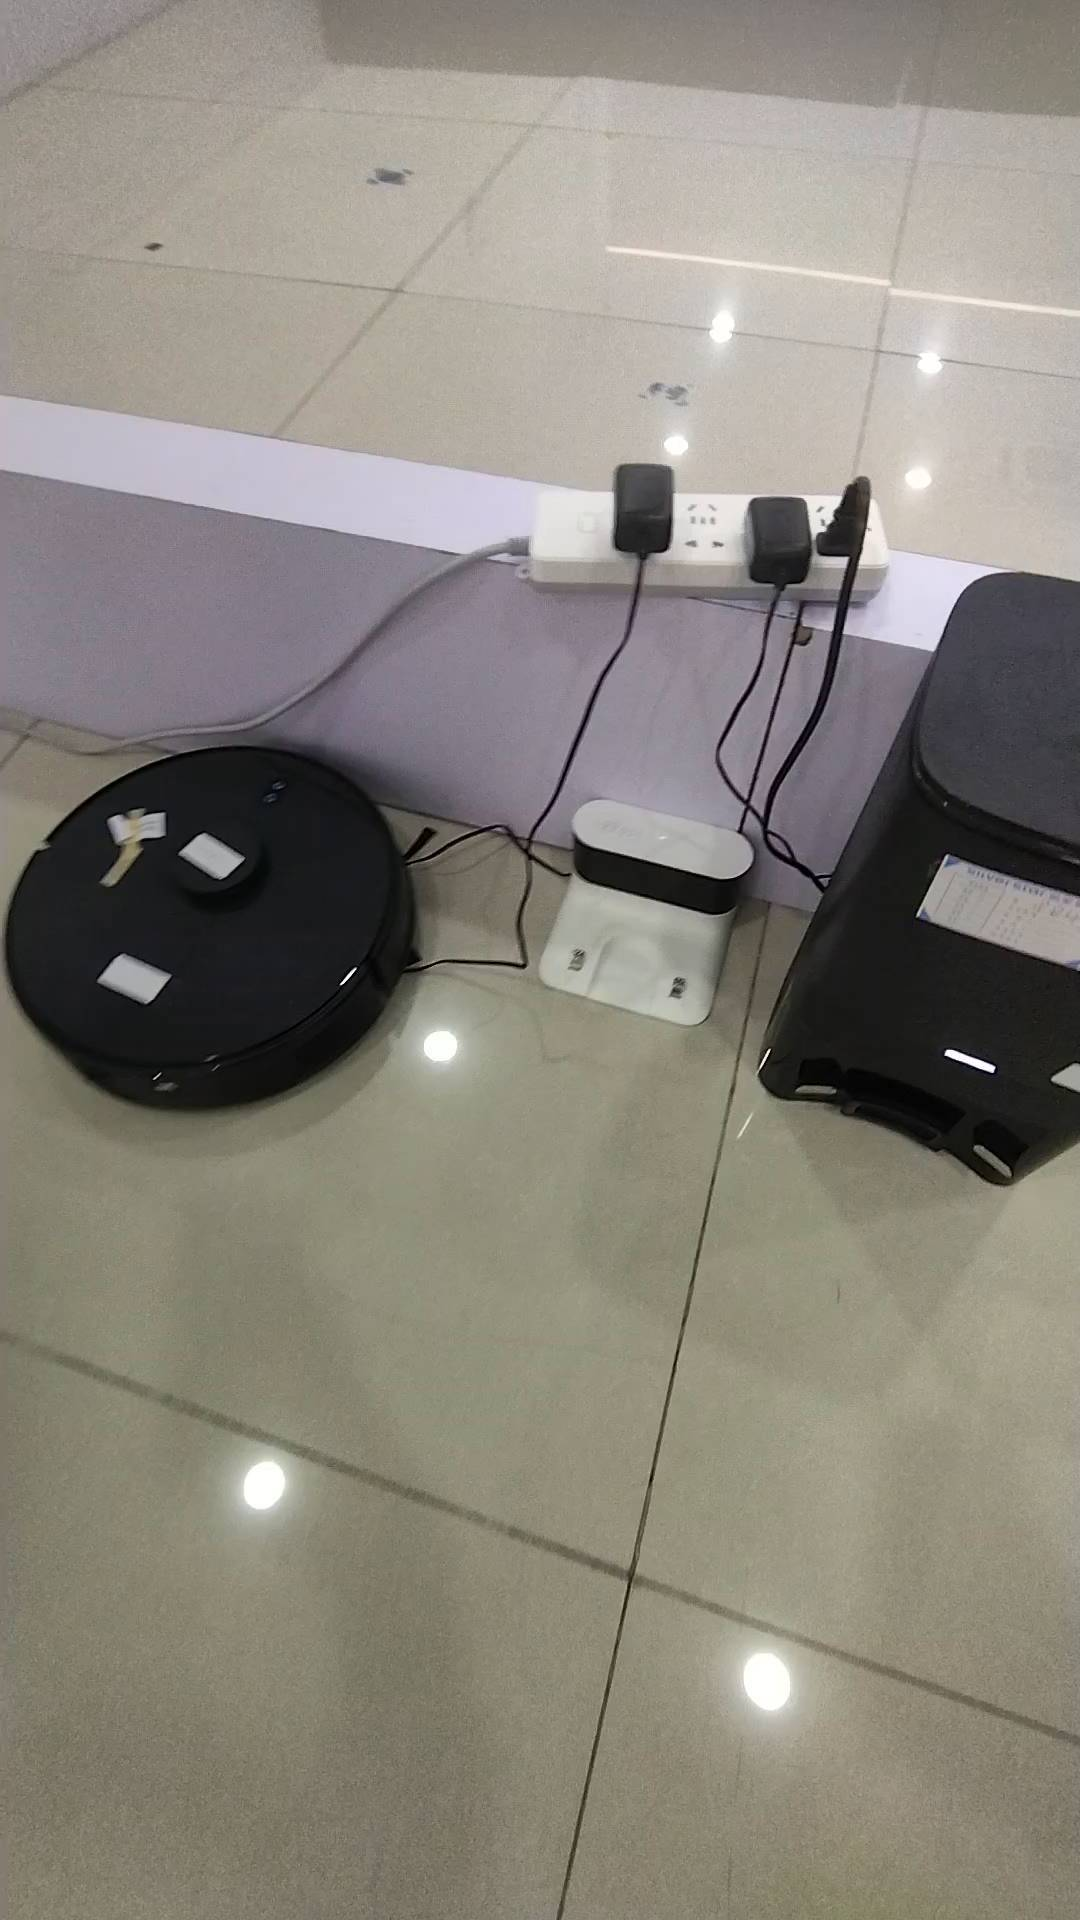dust collecting barrel: (757, 571, 1080, 1193)
recharge seat: (535, 798, 756, 1029)
